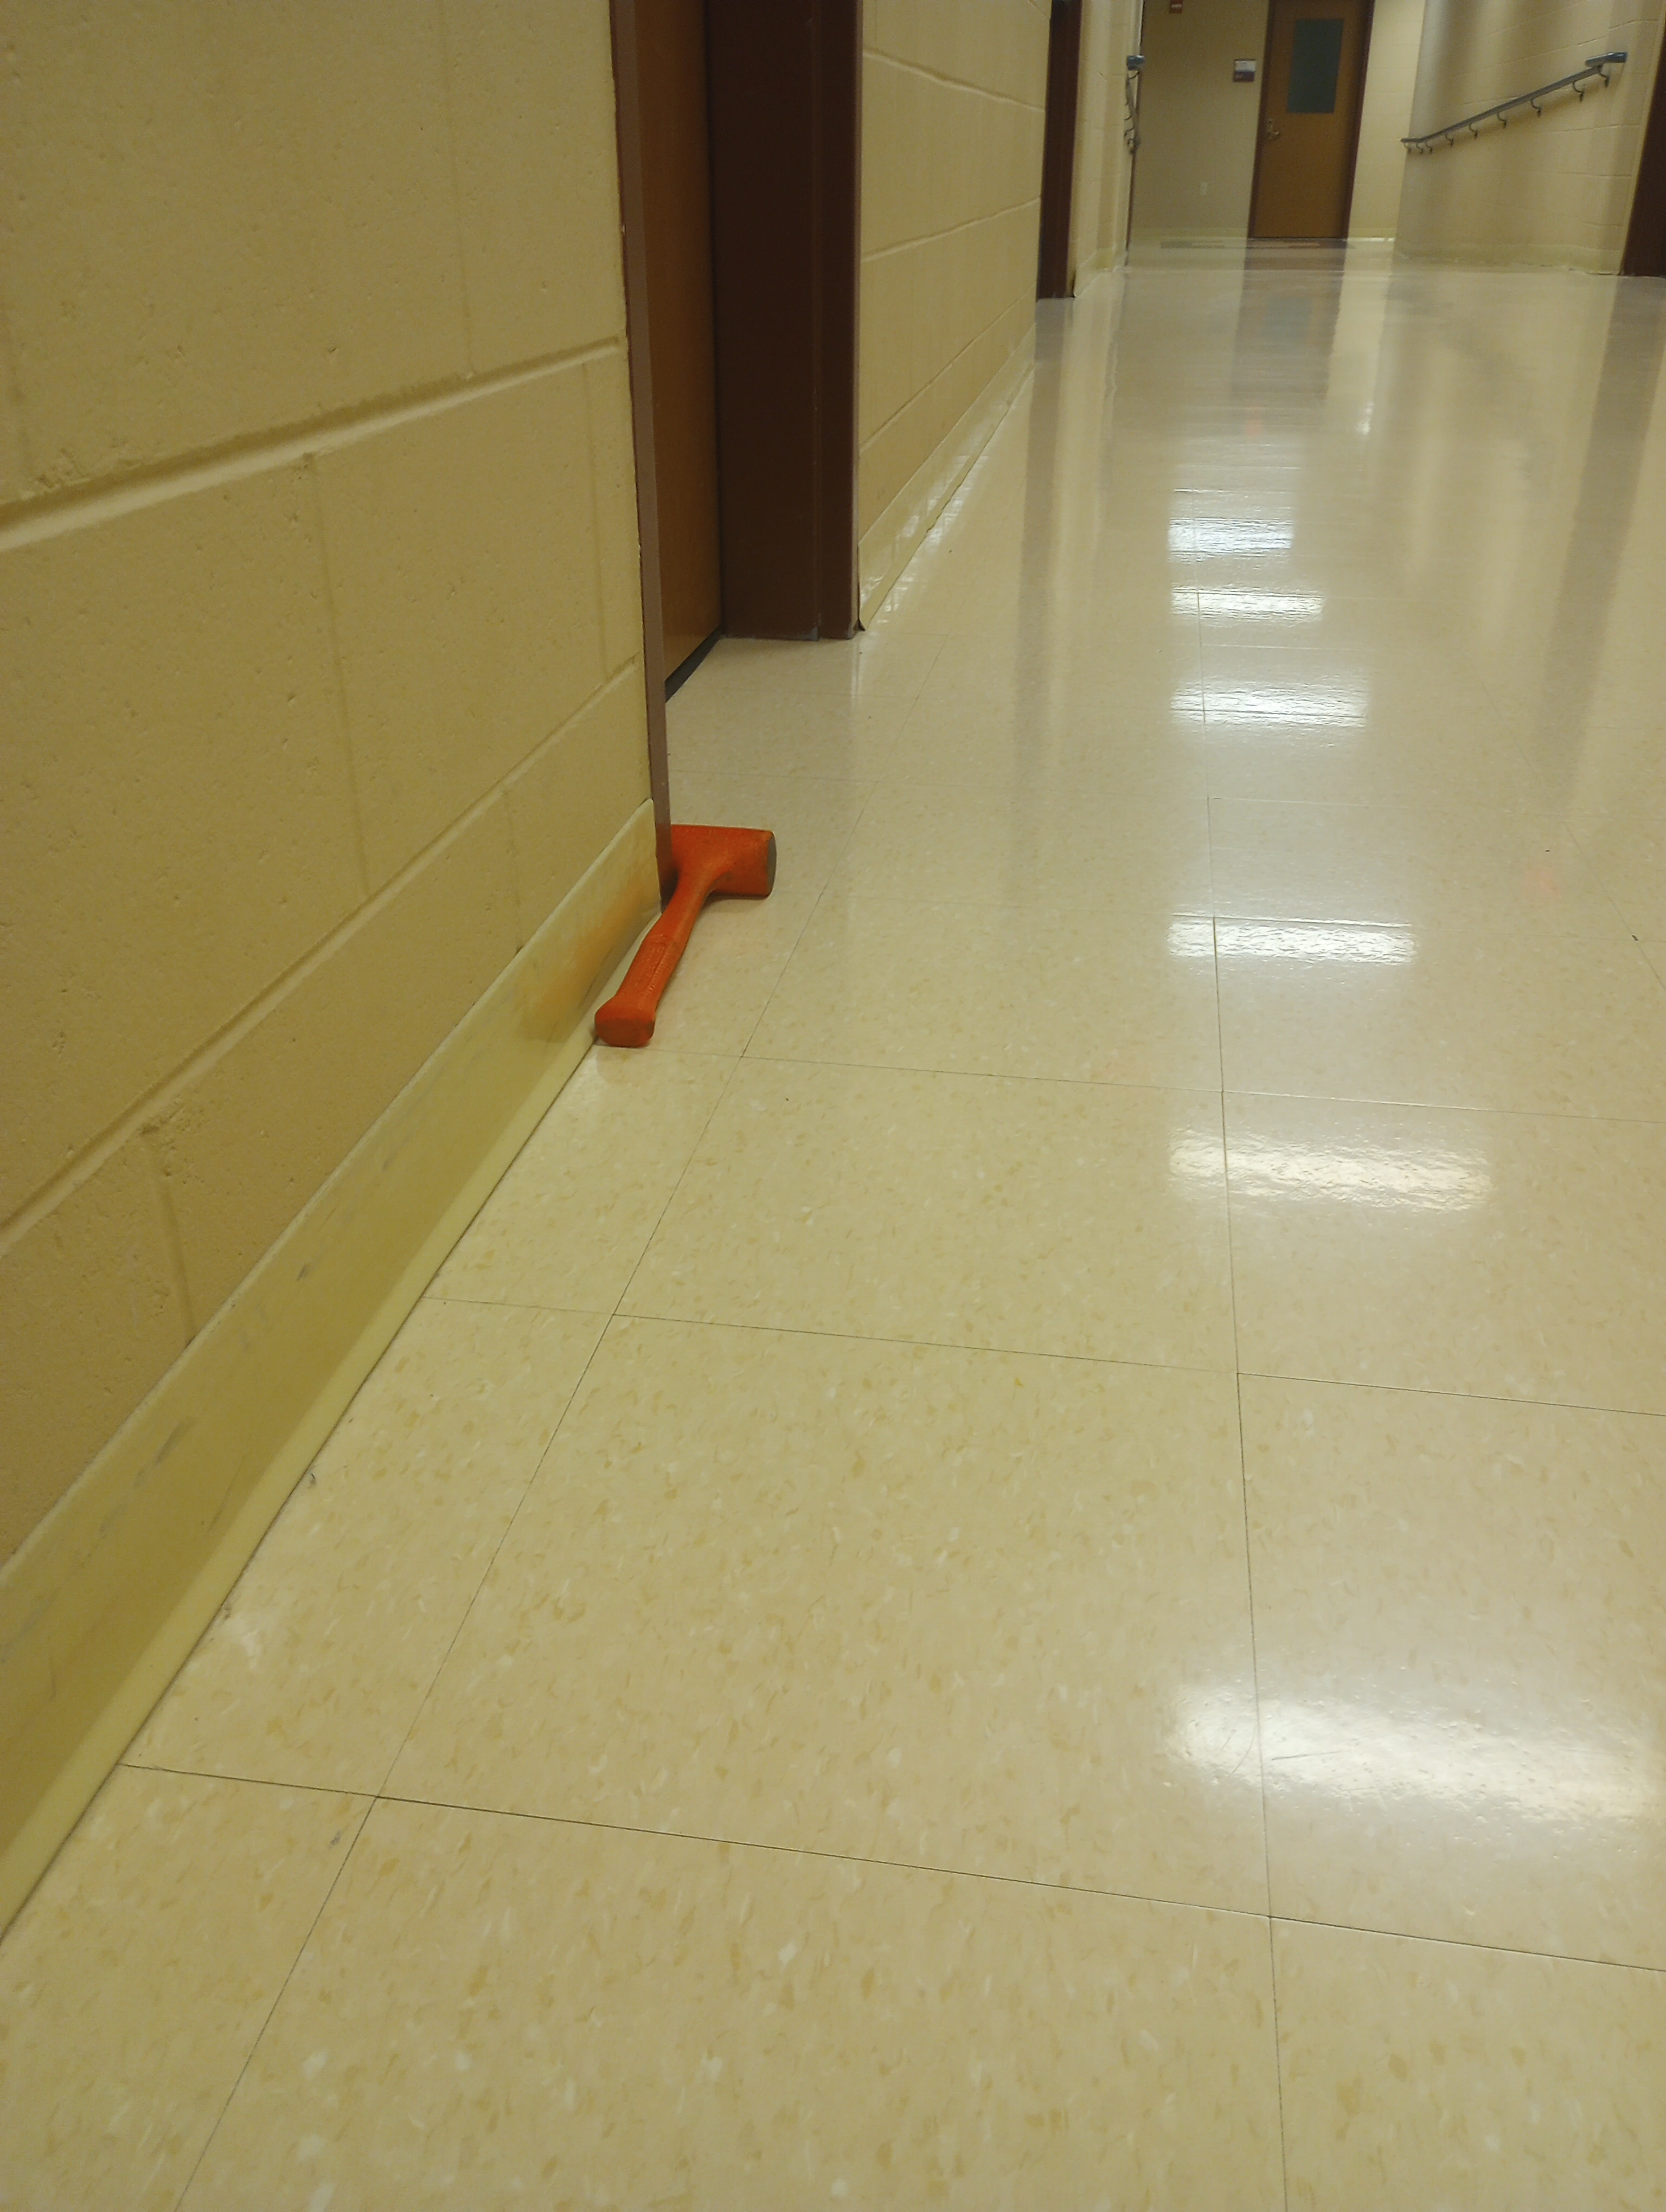bottle: (585, 808, 782, 1063)
